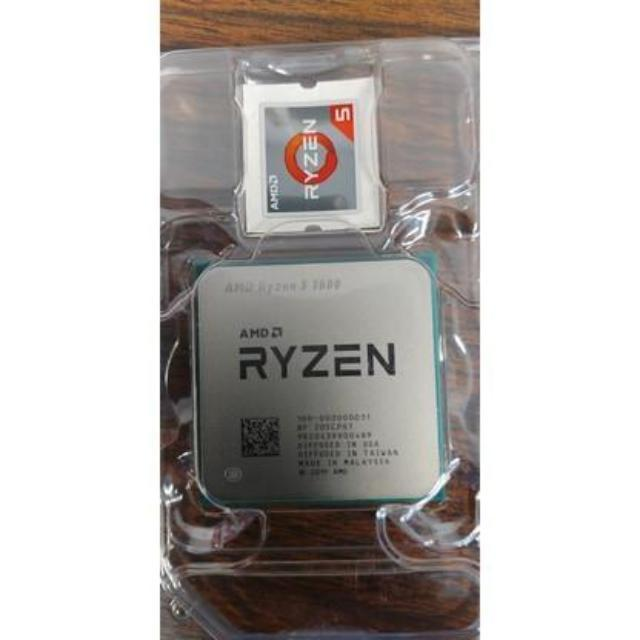CPU: (194, 260, 446, 505)
